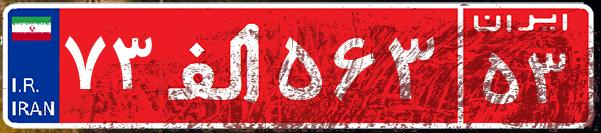3: (385, 28, 445, 110), (110, 28, 158, 105), (525, 38, 570, 115)
5: (273, 28, 330, 110), (475, 38, 525, 113)
6: (330, 28, 385, 110)
7: (57, 26, 110, 107)
الف: (158, 15, 273, 115)
